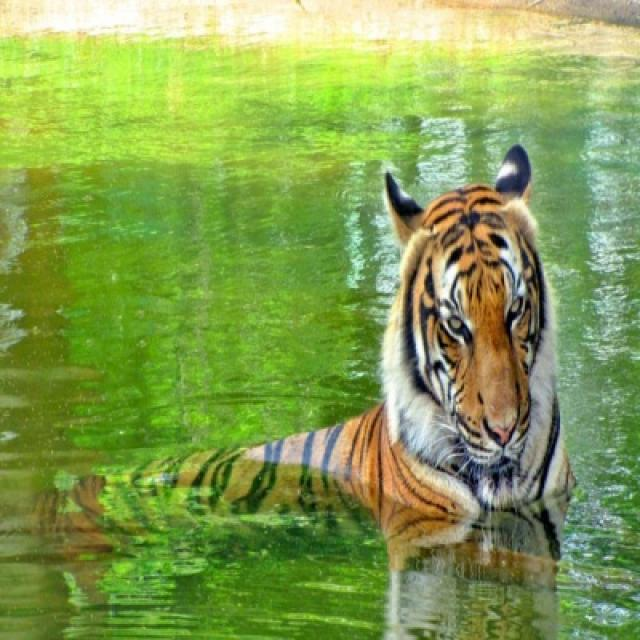Tiger: (20, 141, 575, 581)
